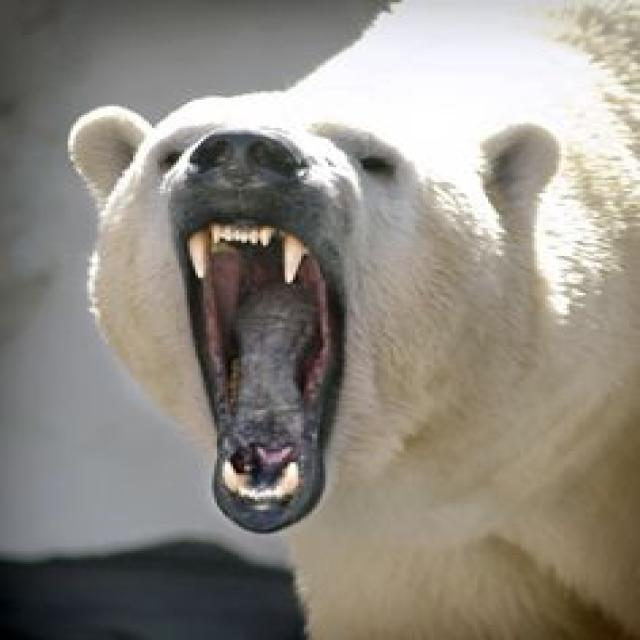Carnivorous: (65, 0, 640, 640)
